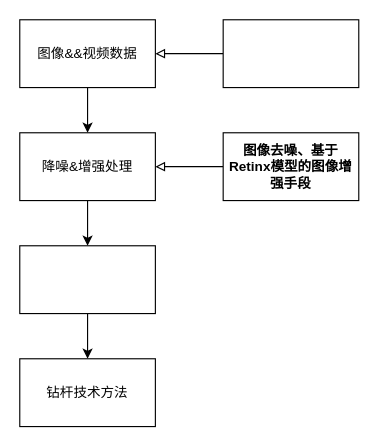
Image size: 379x446. Some labels were removed from this diagram. The centre of each missing label's shape, as x and y in pixels:
"无自然光、光源不稳定（强光、暗光、微光）、成像角度多变" belongs at point (290, 53).
"构建跟踪任务" belongs at point (87, 279).
